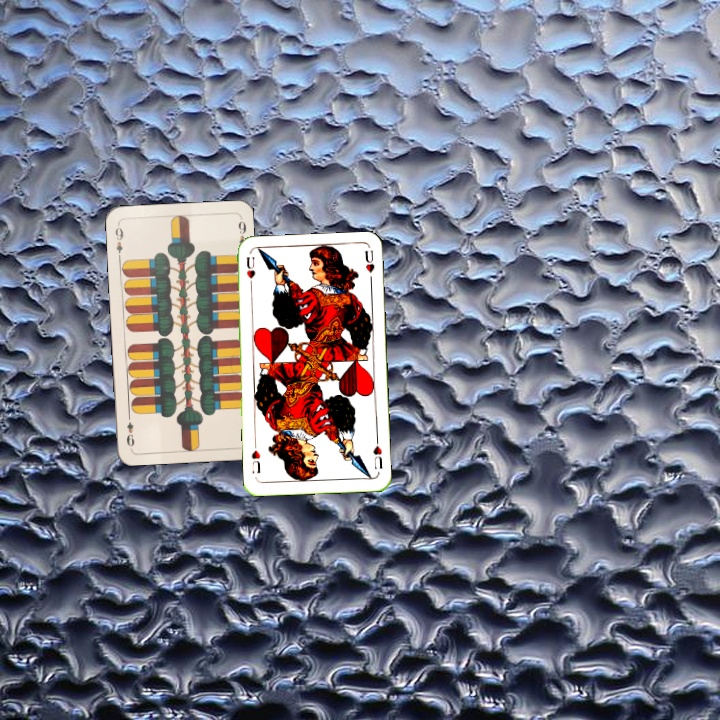E9: (111, 221, 125, 261)
HU: (369, 435, 385, 472), (243, 253, 258, 291)
